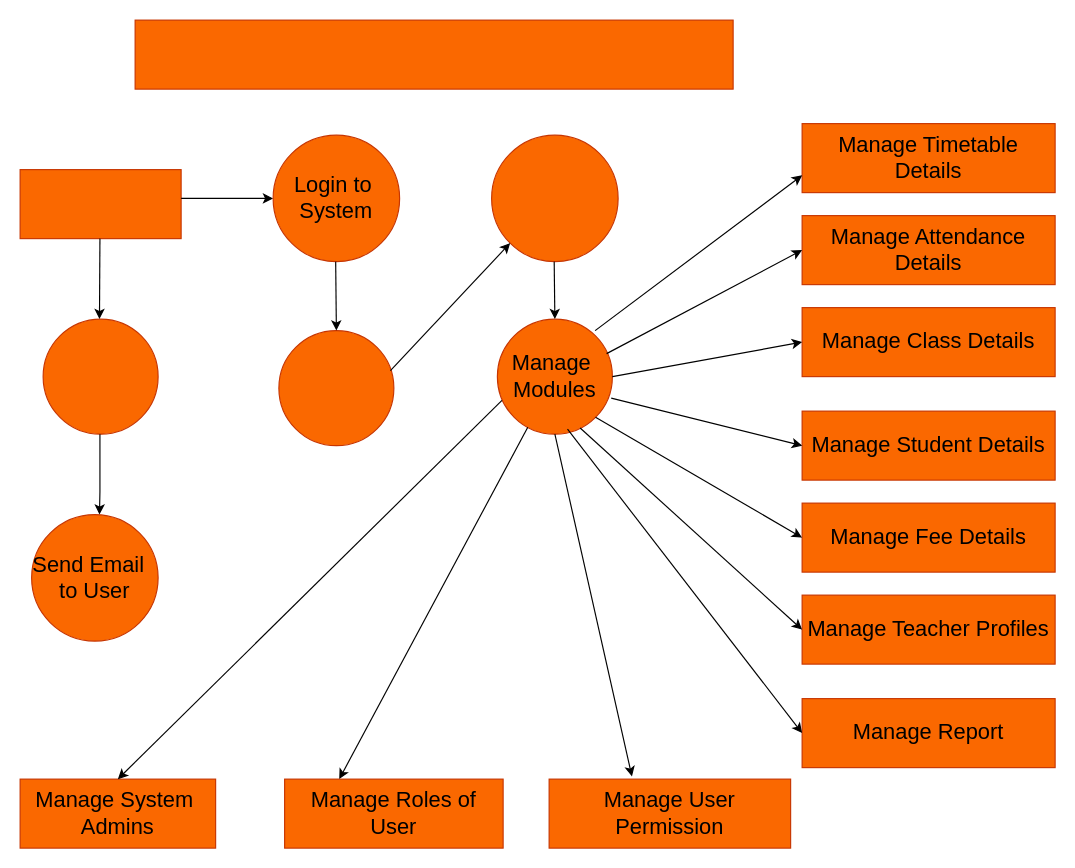
Image size: 1075x868. Some labels were removed from this diagram. The shapes that lost their labels are listed below. From the top down, each one's centre as x and y in pixels, then its label:
At (433,54): "Student Information System".
At (100,203): "Admin".
At (554,198): "Check Roles of Access".
At (100,376): "Forget Password".
At (336,387): "Check Credentials".
